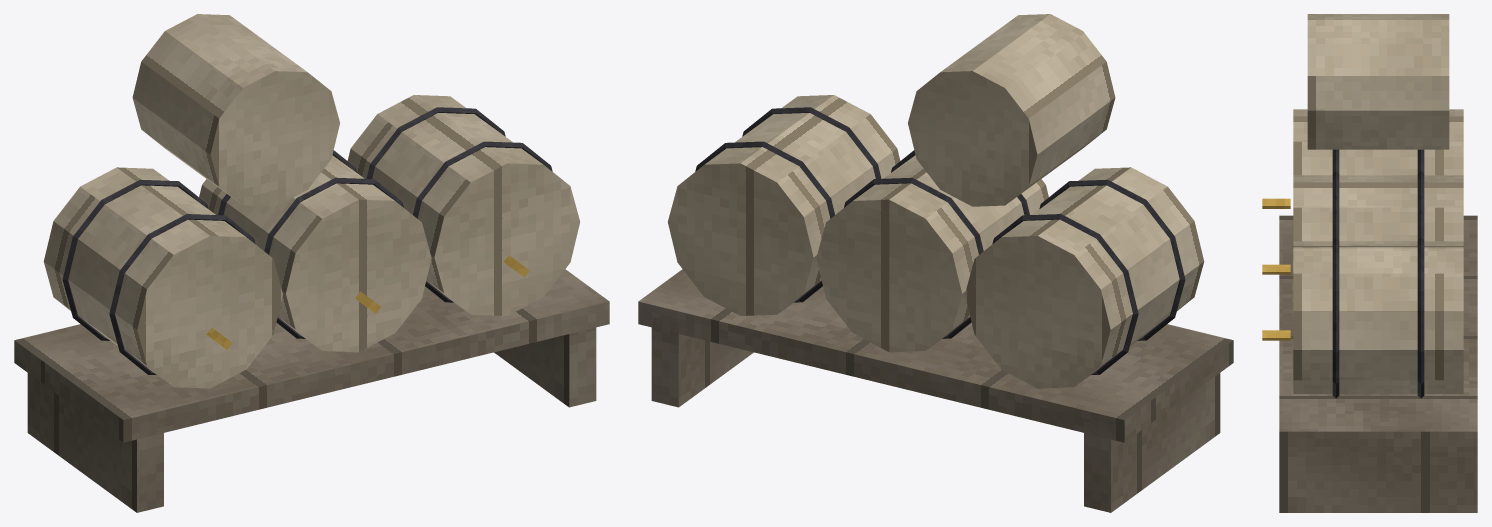
File: keg_rack.obj
3 renders of one model, left to right at view 1: azimuth 30°, elevation 25°; view 2: azimuth 150°, elevation 25°; view 3: azimuth 270°, elevation 25°, orthographic. The views are drawn at different scales.
Parts seen in each view (by area): view 1: keg_rack; view 2: keg_rack; view 3: keg_rack.
Boxes of the visible parts, x1,y1,x2,y2 form: keg_rack: [14, 14, 609, 512]; keg_rack: [638, 14, 1233, 512]; keg_rack: [1262, 14, 1477, 512].
Bounding box in the file's own units: 1.8 × 1.39 × 0.76.
